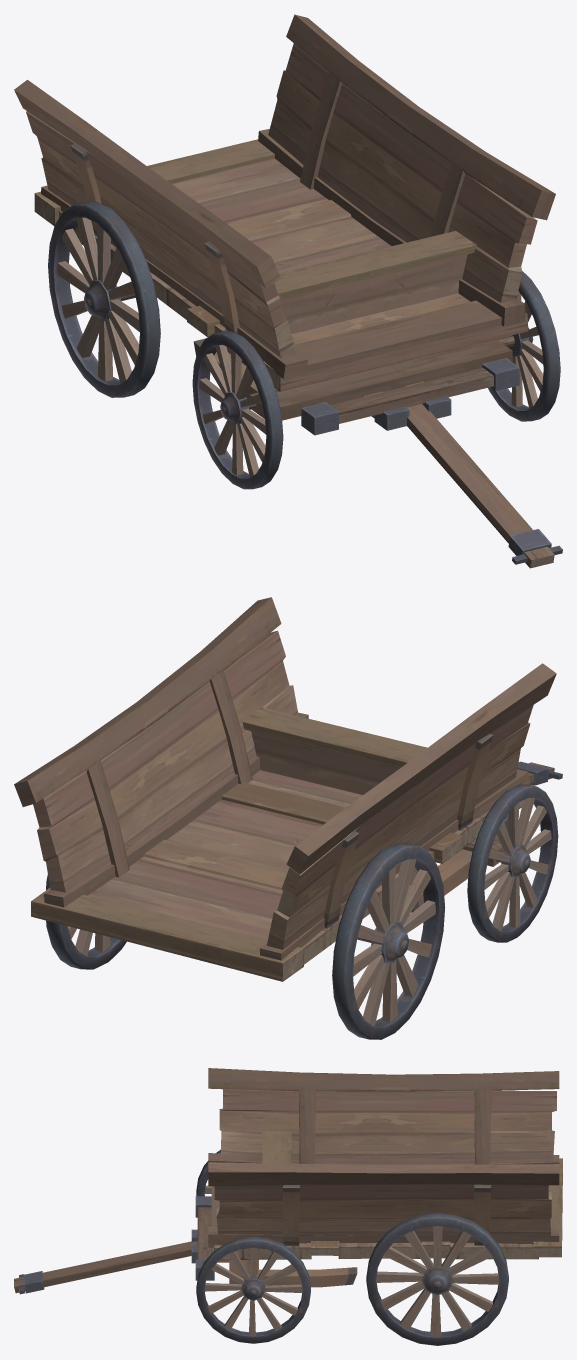
Rendered from Homeworld_Exterior_Md_Decoration_Gardencart_01_Lod0.fbx.
3 views of the same model, one above another, from view 1: azimuth 30°, elevation 25°; view 2: azimuth 150°, elevation 25°; view 3: azimuth 270°, elevation 25° (orthographic). The views are drawn at different scales.
Parts seen in each view (by area): view 1: Area_MdProps_Gardencart02_Lod0; view 2: Area_MdProps_Gardencart02_Lod0; view 3: Area_MdProps_Gardencart02_Lod0.
Part boxes in pixels (x1,y1,x2,y2): Area_MdProps_Gardencart02_Lod0: [14, 14, 562, 568]; Area_MdProps_Gardencart02_Lod0: [14, 597, 562, 1039]; Area_MdProps_Gardencart02_Lod0: [14, 1068, 562, 1345].
Bounding box in the file's own units: 2.12 × 1.58 × 4.4.
